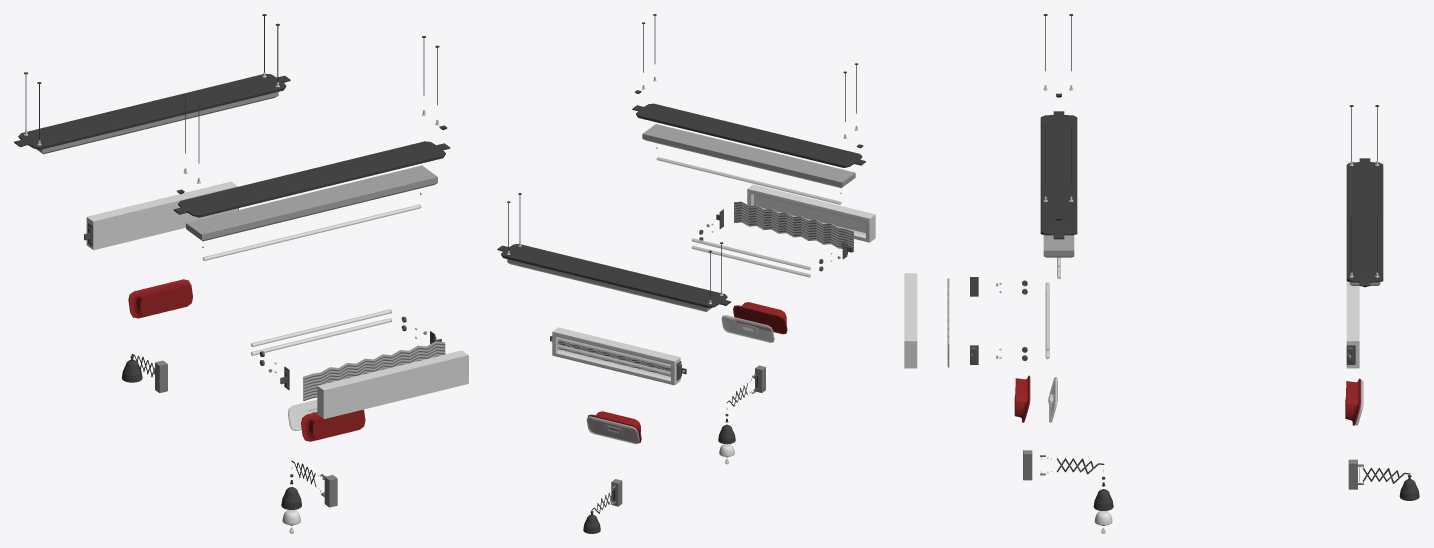
Rendered from Office Lamps.fbx.
3 renders of one model, left to right at view 1: azimuth 30°, elevation 25°; view 2: azimuth 150°, elevation 25°; view 3: azimuth 270°, elevation 25°, orthographic. The views are drawn at different scales.
Visible parts, largest first — view 1: BasesSustentacao (×2), BaseLampadaParede (×2), Base (×2), MetalReflexivo, Assets:polySurface13, polySurface13, LampadaExtensa, LampadaExtensa2, LampadaExtensa3, polySurface14; view 2: BasesSustentacao (×2), BaseLampadaParede (×2), Base (×2), MetalReflexivo (×2), polySurface13, LampadaExtensa3 (×2), LampadaExtensa2 (×2), polySurface14, Assets:polySurface14, LampadaExtensa, Assets:polySurface13; view 3: BasesSustentacao (×2), BaseLampadaParede (×2), Base, polySurface13, Assets:polySurface13.
Boxes of the visible parts, <box> form: BasesSustentacao (×2): <box>14,73,450,217</box>; BaseLampadaParede (×2): <box>86,181,468,418</box>; Base (×2): <box>37,92,437,241</box>; MetalReflexivo: <box>303,341,445,400</box>; Assets:polySurface13: <box>128,279,192,318</box>; polySurface13: <box>301,409,365,441</box>; LampadaExtensa: <box>202,204,421,260</box>; LampadaExtensa2: <box>250,309,391,346</box>; LampadaExtensa3: <box>251,318,391,355</box>; polySurface14: <box>288,400,317,430</box>; BasesSustentacao (×2): <box>497,103,865,308</box>; BaseLampadaParede (×2): <box>552,184,875,385</box>; Base (×2): <box>507,124,855,311</box>; MetalReflexivo (×2): <box>558,201,854,376</box>; polySurface13: <box>733,302,787,334</box>; LampadaExtensa3 (×2): <box>557,245,810,375</box>; LampadaExtensa2 (×2): <box>557,238,810,367</box>; polySurface14: <box>721,315,774,342</box>; Assets:polySurface14: <box>586,416,639,444</box>; LampadaExtensa: <box>656,157,841,204</box>; Assets:polySurface13: <box>588,411,641,443</box>; BasesSustentacao (×2): <box>1040,111,1383,286</box>; BaseLampadaParede (×2): <box>904,273,1359,368</box>; Base: <box>1043,235,1074,257</box>; polySurface13: <box>1014,375,1030,422</box>; Assets:polySurface13: <box>1345,378,1360,425</box>.
Size of the model in its own units: 34.08 by 57.82 by 58.55.
